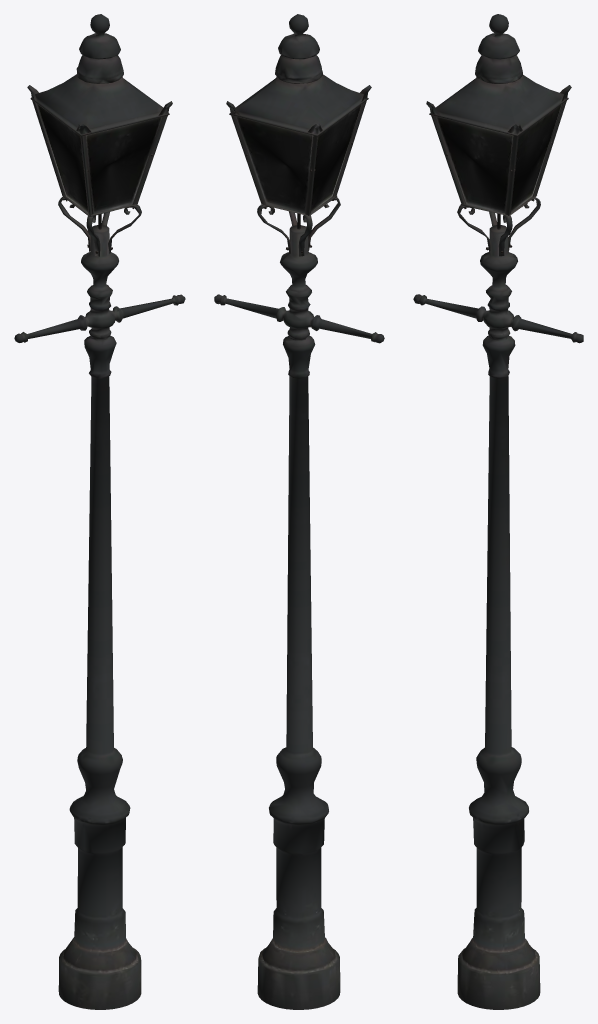
Rendered from lamp.glb.
3 views of the same model, side by side, from view 1: azimuth 30°, elevation 25°; view 2: azimuth 150°, elevation 25°; view 3: azimuth 330°, elevation 25° (orthographic).
Parts seen in each view (by area): view 1: street_lamp_01; view 2: street_lamp_01; view 3: street_lamp_01.
Part boxes in pixels (x1,y1,x2,y2): street_lamp_01: (14,14,185,1009); street_lamp_01: (214,14,384,1009); street_lamp_01: (413,14,583,1009).
Size of the model in its own units: 1.54 by 8.5 by 0.8466.
Materials: 2 (2 with a texture image).
